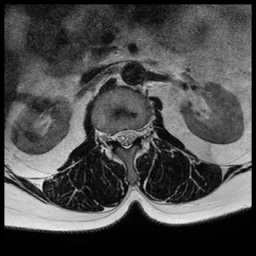CCS_normal: (123, 123, 130, 153)
LFS_stenosis: (136, 123, 144, 144)
LLS_normal: (130, 123, 136, 146)
RFS_normal: (108, 124, 116, 146)
RLS_normal: (116, 124, 123, 149)
